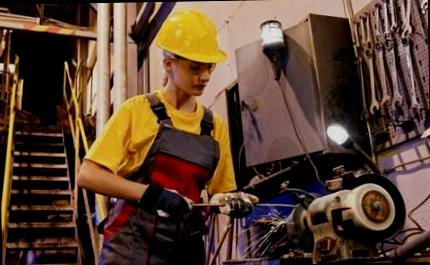helmet: (148, 4, 229, 66)
no_vest: (86, 89, 238, 265)
person: (70, 6, 243, 265)
